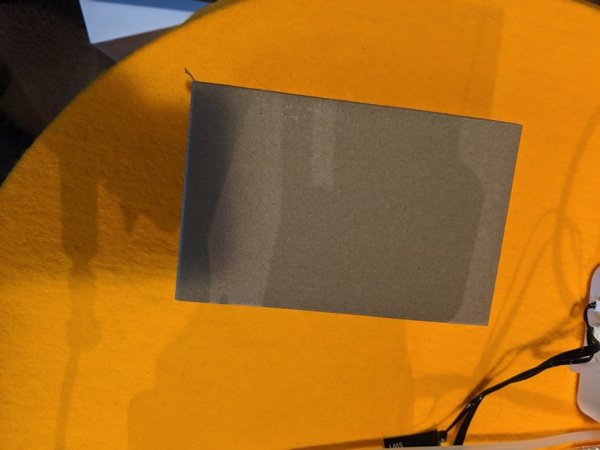cardboard: (158, 66, 529, 348)
